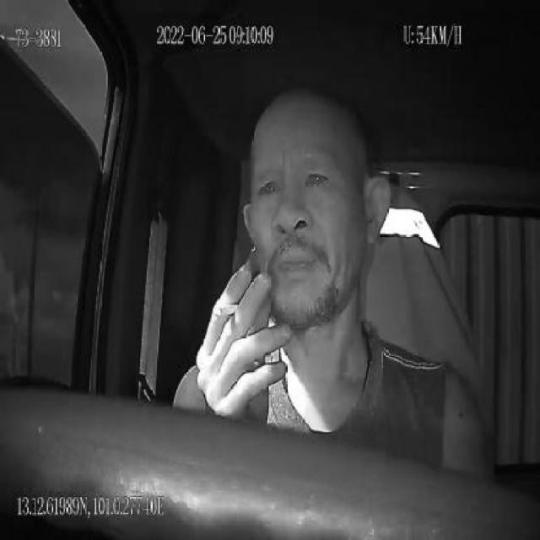smoking: (214, 303, 240, 317)
